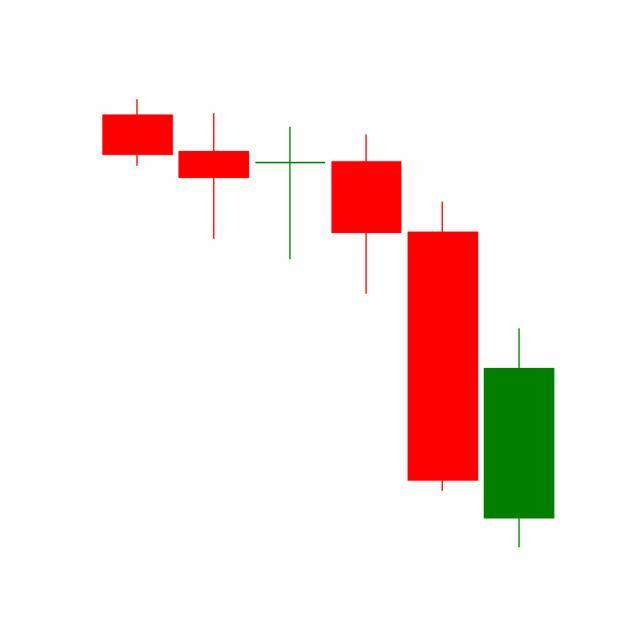Three Outside Up-Down: (252, 123, 482, 496)
